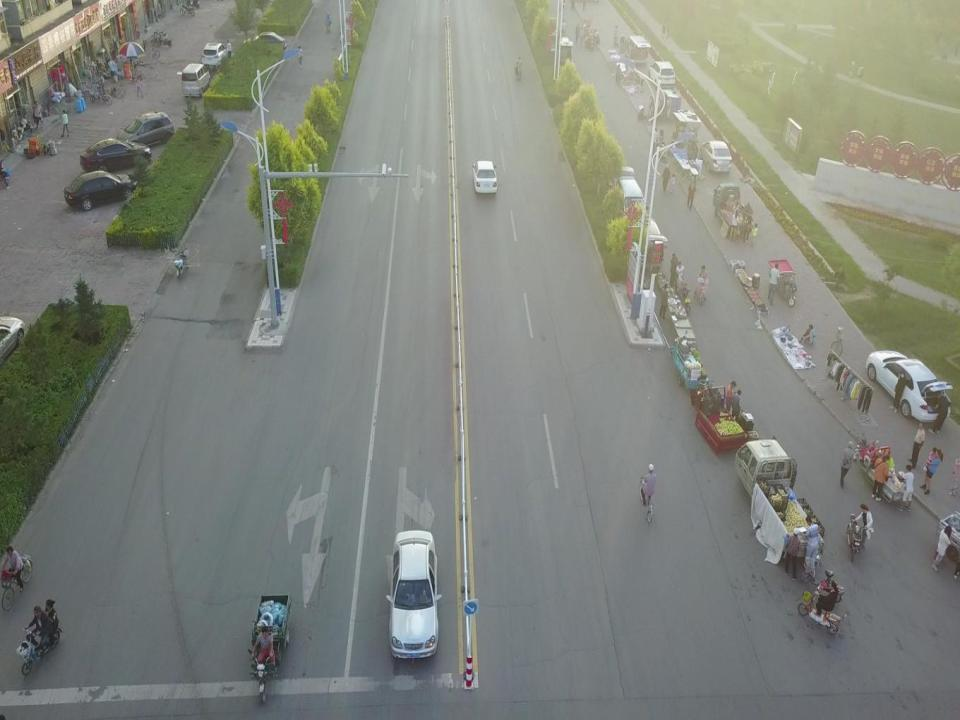car: (384, 530, 443, 662), (865, 351, 953, 426), (81, 136, 153, 176), (63, 172, 137, 207), (117, 113, 176, 144), (699, 140, 735, 172), (622, 29, 654, 60), (470, 160, 497, 193), (649, 56, 676, 86), (200, 41, 224, 67)
truck: (736, 437, 823, 561), (714, 183, 754, 241)
van: (179, 65, 212, 99)
